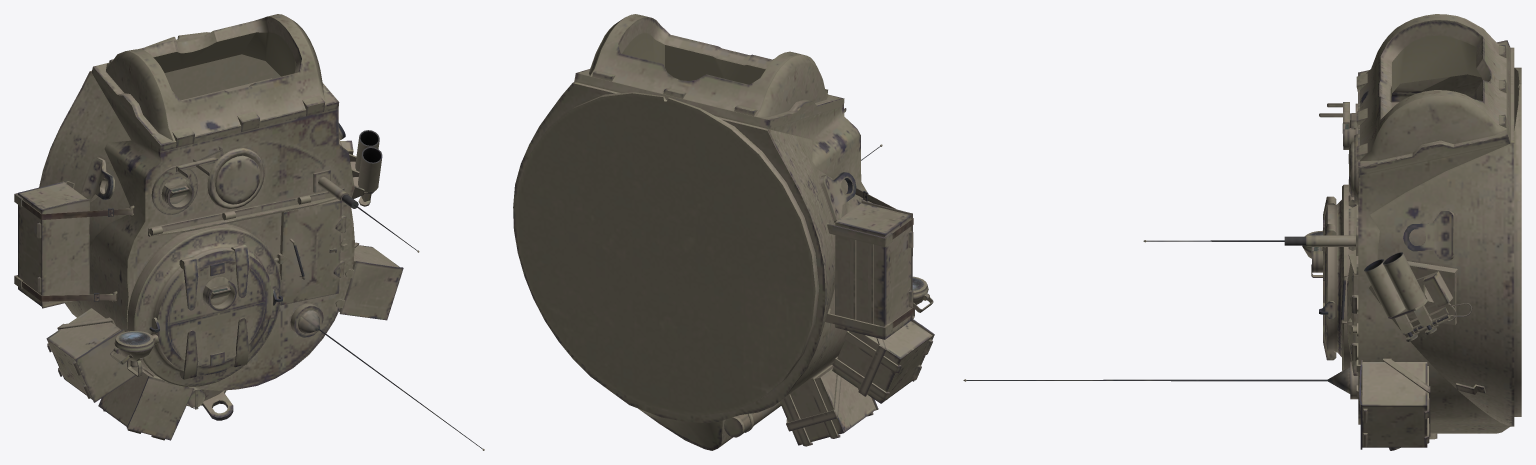
File: Turret_02.glb
3 renders of one model, left to right at view 1: azimuth 30°, elevation 25°; view 2: azimuth 150°, elevation 25°; view 3: azimuth 270°, elevation 25°, orthographic. The views are drawn at different scales.
Parts seen in each view (by area): view 1: set_0_group_0; view 2: set_0_group_0; view 3: set_0_group_0.
Part boxes in pixels (bbox=[...]): set_0_group_0: bbox=[14, 14, 484, 450]; set_0_group_0: bbox=[513, 14, 934, 450]; set_0_group_0: bbox=[963, 14, 1521, 450].
Size of the model in its own units: 2 by 2.06 by 2.6.
Materials: 1 (1 with a texture image).
